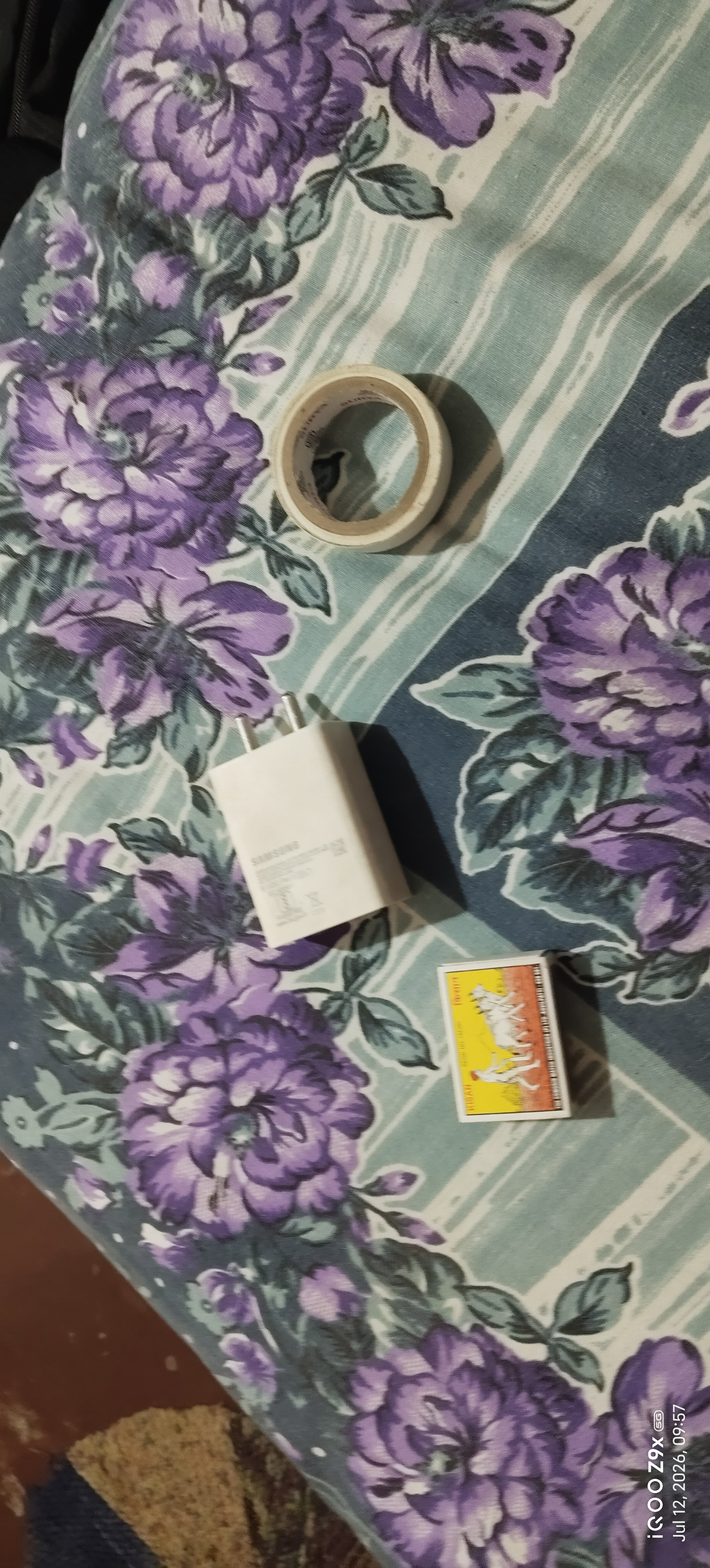charger: (185, 678, 429, 977)
matchbox: (420, 939, 600, 1165)
tape_roll: (258, 351, 466, 568)
